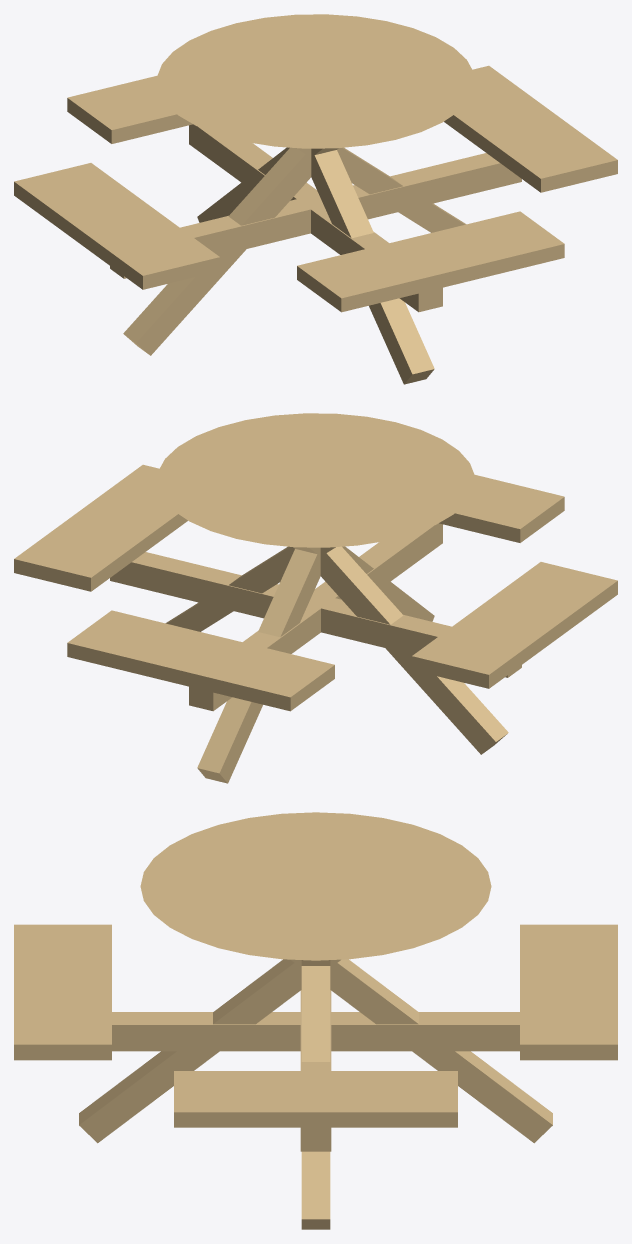
3 renders of one model, top to bottom at view 1: azimuth 30°, elevation 25°; view 2: azimuth 150°, elevation 25°; view 3: azimuth 270°, elevation 25°, orthographic. The views are drawn at different scales.
Parts seen in each view (by area): view 1: SW-Y313; view 2: SW-Y313; view 3: SW-Y313.
Boxes of the visible parts, bbox=[...] form: SW-Y313: bbox=[14, 14, 617, 384]; SW-Y313: bbox=[14, 413, 617, 783]; SW-Y313: bbox=[14, 812, 617, 1229].
Bounding box in the file's own units: 1.2 × 0.55 × 1.2.
